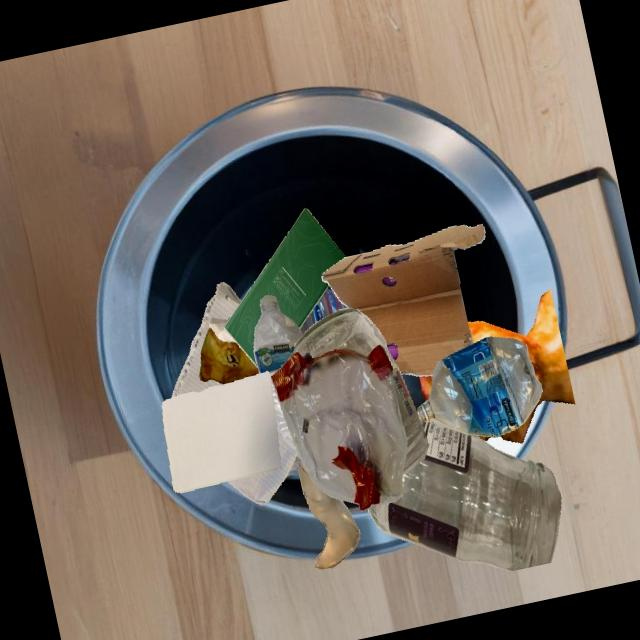biowaste: (500, 288, 575, 443), (420, 339, 523, 441), (199, 327, 259, 384)
cardboard: (321, 223, 485, 376)
glass: (367, 418, 561, 571), (293, 307, 428, 475), (297, 461, 359, 568)
paper: (224, 208, 346, 367), (162, 371, 281, 492), (171, 282, 241, 397), (227, 424, 298, 505), (208, 317, 235, 341)
plastic: (270, 345, 407, 511), (417, 336, 542, 437), (253, 295, 302, 448), (299, 288, 344, 335)
